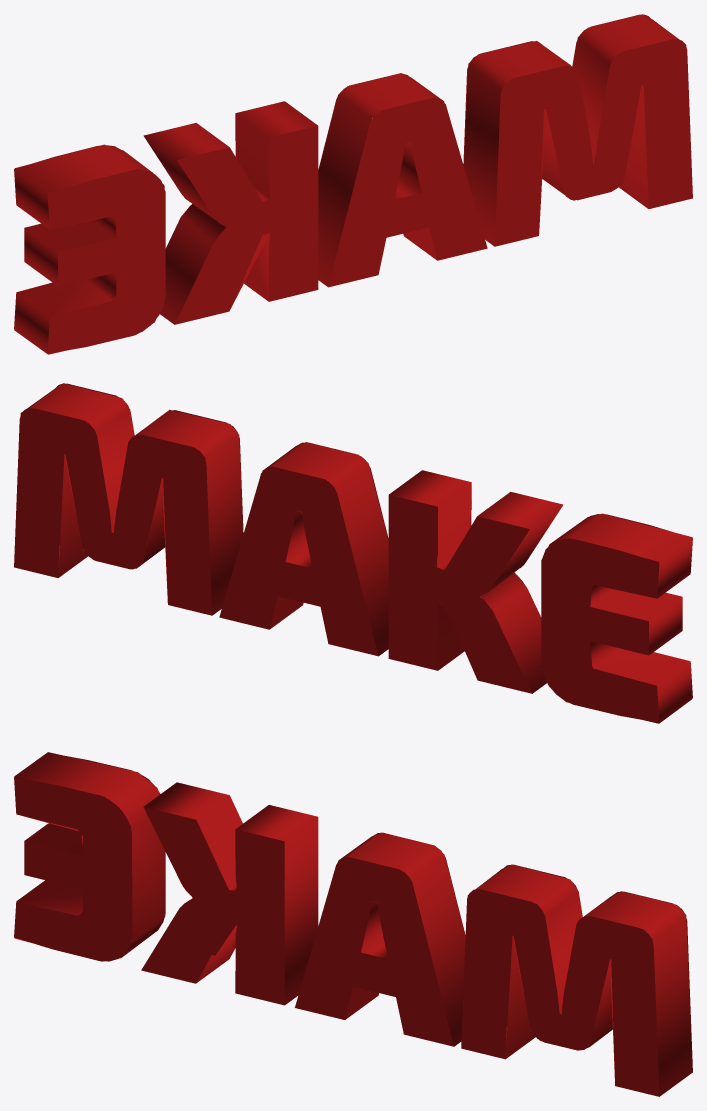
Rendered from make.fbx.
The picture shows the model from 3 angles, top to bottom: view 1: azimuth 30°, elevation 25°; view 2: azimuth 150°, elevation 25°; view 3: azimuth 330°, elevation 25°; orthographic projection.
Parts seen in each view (by area): view 1: Text; view 2: Text; view 3: Text.
Part boxes in pixels (box(x1,y1,x2,y2)): Text: box(14, 14, 692, 354); Text: box(14, 383, 692, 723); Text: box(14, 752, 692, 1096).
Size of the model in its own units: 8.89 by 2.18 by 0.8.
